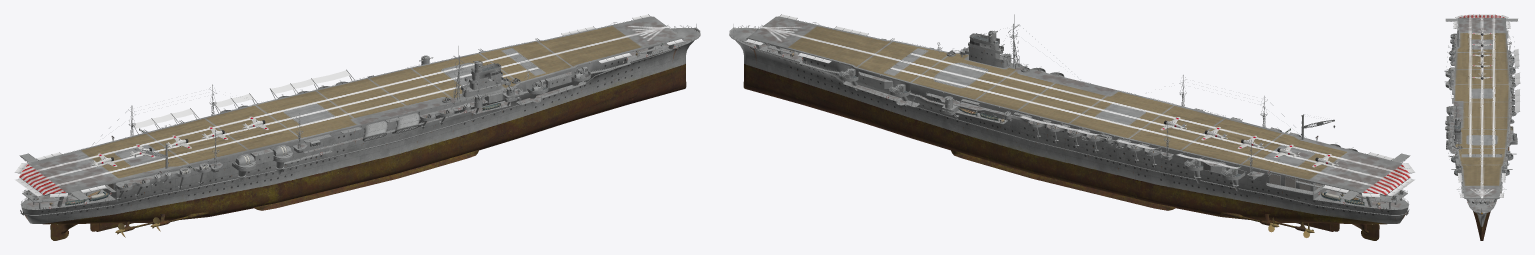
File: Shokaku.fbx
The picture shows the model from 3 angles, left to right: view 1: azimuth 30°, elevation 25°; view 2: azimuth 150°, elevation 25°; view 3: azimuth 270°, elevation 25°; orthographic projection. The views are drawn at different scales.
Parts seen in each view (by area): view 1: Shokaku_Hull, Shokaku_Netting_Props, Shokaku_Metal_Props, Shokaku_SideFence; view 2: Shokaku_Hull, Shokaku_Netting_Props, Shokaku_Metal_Props, Shokaku_SideFence; view 3: Shokaku_Hull, Shokaku_Netting_Props, Shokaku_Metal_Props, Shokaku_SideFence, Shokaku_Hull_Cables, Shokaku_Props, Mitsubishi_A6M_Frame.003, Shokaku_Crane_2, Mitsubishi_A6M_Frame.005, Mitsubishi_A6M_Frame.002, Type-89_TwinShield_Mount.001, Mitsubishi_A6M_Frame.001 (+1 smaller).
Boxes of the visible parts, x1=… form: Shokaku_Hull: x1=19, y1=16, x2=700, y2=233; Shokaku_Netting_Props: x1=15, y1=14, x2=684, y2=197; Shokaku_Metal_Props: x1=15, y1=14, x2=696, y2=200; Shokaku_SideFence: x1=21, y1=21, x2=697, y2=209; Shokaku_Hull: x1=729, y1=14, x2=1410, y2=233; Shokaku_Netting_Props: x1=745, y1=14, x2=1414, y2=197; Shokaku_Metal_Props: x1=733, y1=14, x2=1414, y2=200; Shokaku_SideFence: x1=732, y1=21, x2=1408, y2=209; Shokaku_Hull: x1=1445, y1=15, x2=1517, y2=240; Shokaku_Netting_Props: x1=1453, y1=14, x2=1520, y2=197; Shokaku_Metal_Props: x1=1445, y1=14, x2=1520, y2=211; Shokaku_SideFence: x1=1449, y1=29, x2=1512, y2=210; Shokaku_Hull_Cables: x1=1446, y1=37, x2=1515, y2=159; Shokaku_Props: x1=1448, y1=36, x2=1513, y2=214; Mitsubishi_A6M_Frame.003: x1=1472, y1=49, x2=1492, y2=57; Shokaku_Crane_2: x1=1457, y1=21, x2=1459, y2=46; Mitsubishi_A6M_Frame.005: x1=1471, y1=72, x2=1492, y2=79; Mitsubishi_A6M_Frame.002: x1=1471, y1=28, x2=1492, y2=35; Type-89_TwinShield_Mount.001: x1=1445, y1=67, x2=1454, y2=75; Mitsubishi_A6M_Frame.001: x1=1471, y1=39, x2=1492, y2=46.
Bounding box in the file's own units: 25758 × 4308 × 4227.
